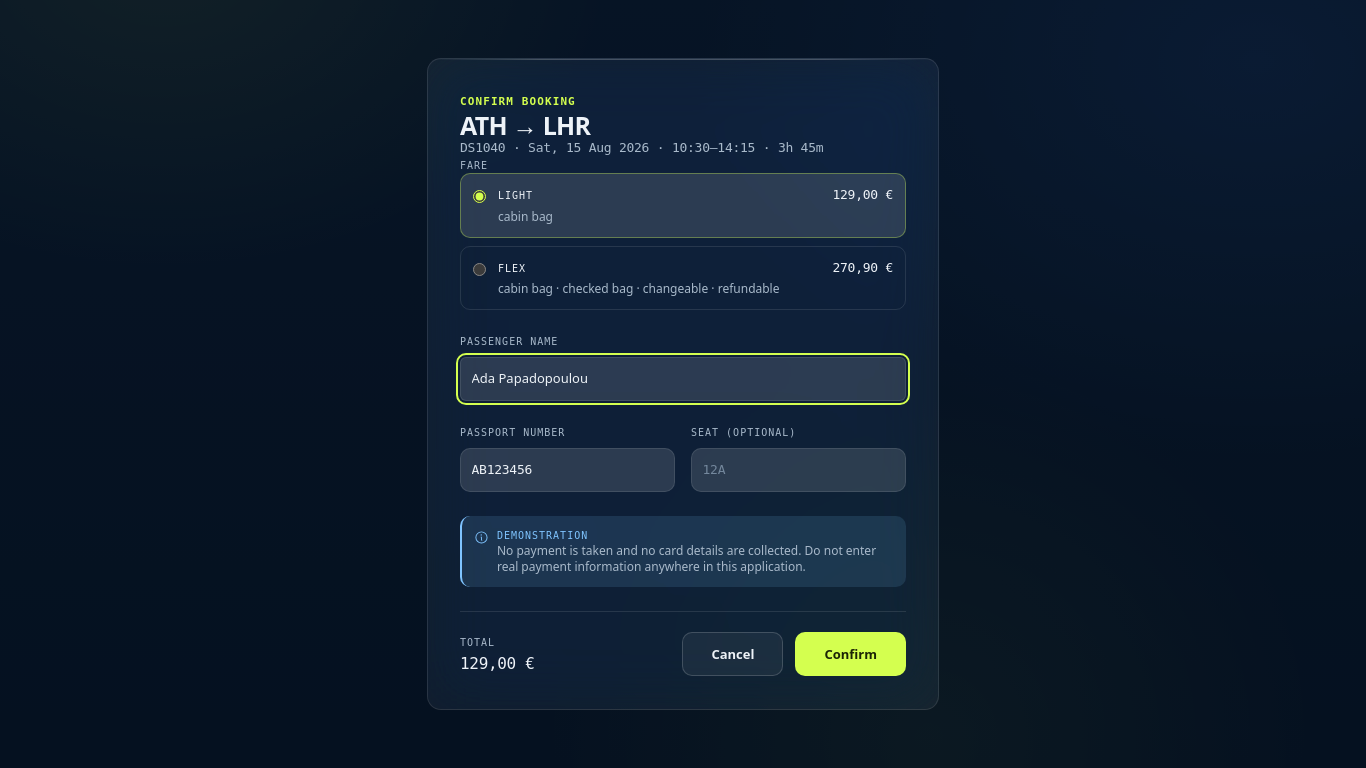
BookingDialog › fares › updates the total when a different fare is chosen
The width and height of the screenshot is (1366, 768).
Click the radio button labelled "Flex" at (480, 269), box [473,263,486,276]
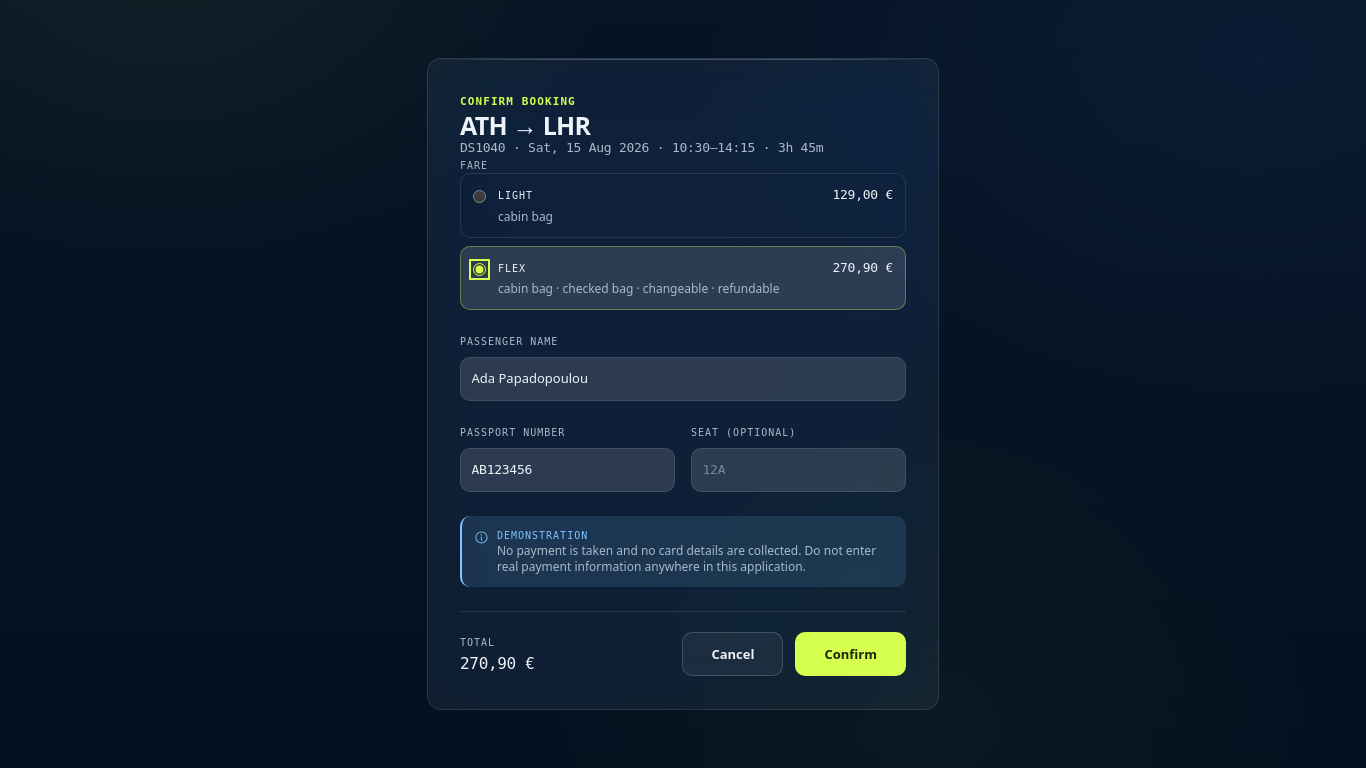
Check: the text "270,90 €" below "Total" is shown, box [460,654,534,673]
